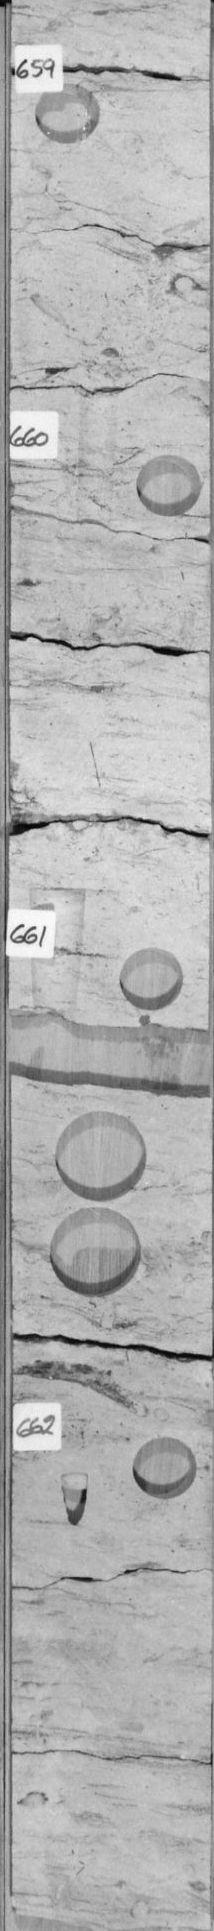hplug: (124, 1432, 202, 1506), (28, 78, 106, 148), (132, 449, 204, 522), (114, 945, 189, 1014)
scal: (48, 1106, 153, 1204), (48, 1204, 146, 1298)
vplug: (25, 881, 92, 1020), (68, 384, 121, 528), (46, 1458, 102, 1542)
